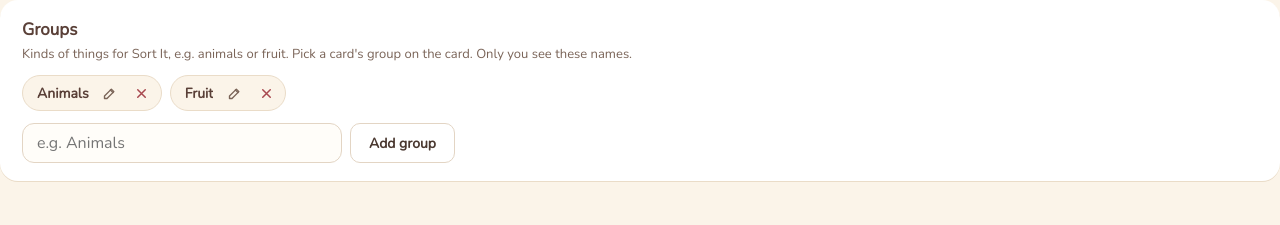
Test: GroupsPanel (A17) › rename: a refused name shows the error under the rename input and stays in edit mode
The image size is (1280, 225).
Click the button named "Rename group Animals": click(110, 93) [95,78,125,108]
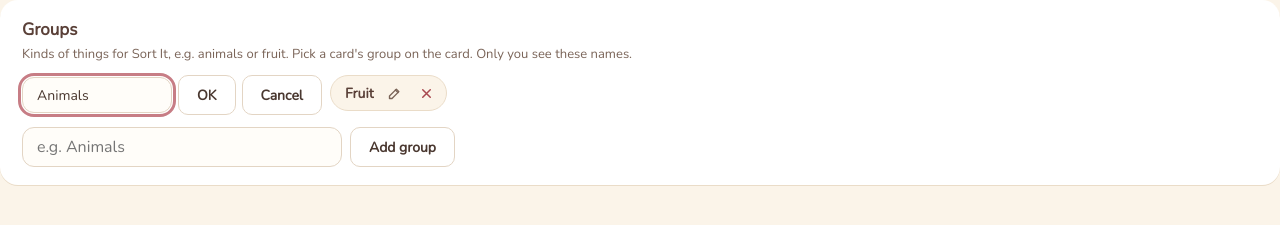
Replace the text in the field named "New name for group Animals" with "FRUIT": (97, 95) [22,77,172,113]
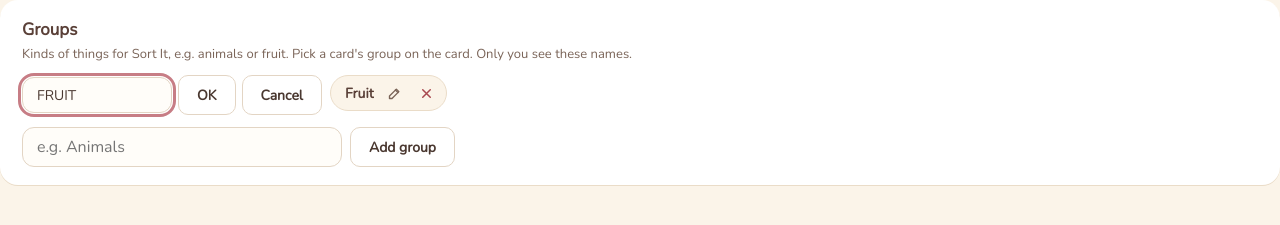
Press Enter in the field named "New name for group Animals", box [22,77,172,113]
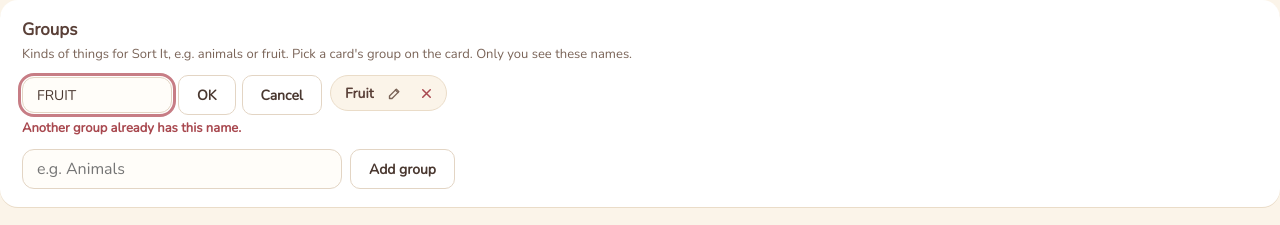
Now the message reads "Another group already has this name.", box [22,119,241,137]
